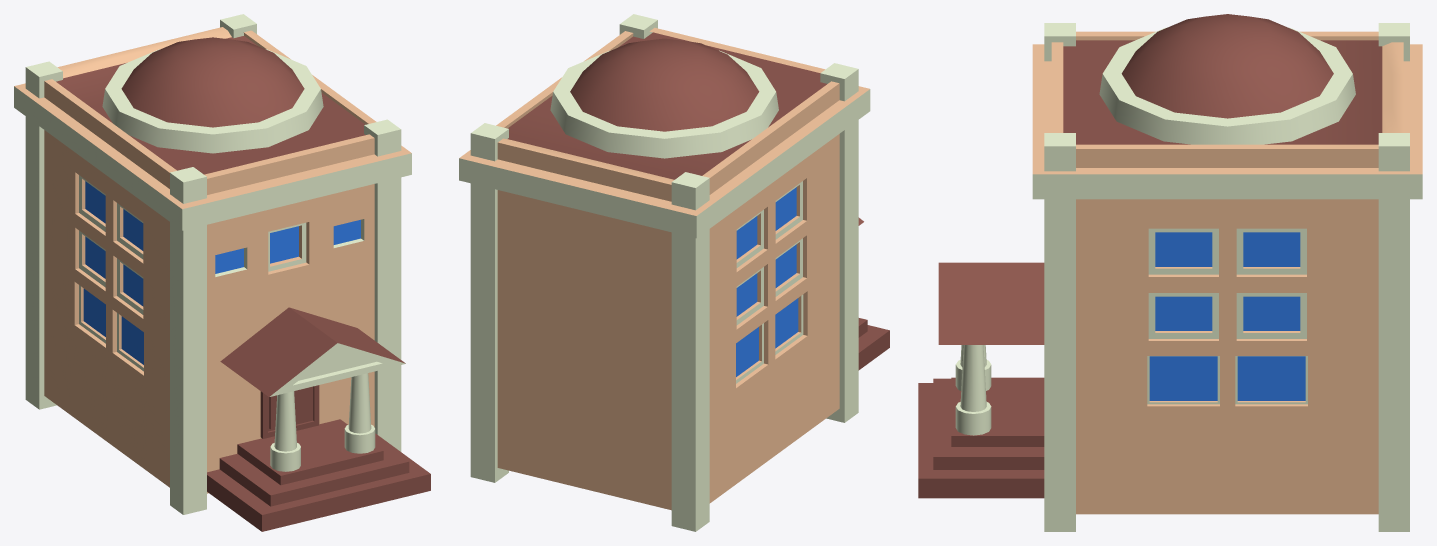
File: HouseSix.fbx
3 views of the same model, side by side, from view 1: azimuth 30°, elevation 25°; view 2: azimuth 150°, elevation 25°; view 3: azimuth 270°, elevation 25° (orthographic). The views are drawn at different scales.
Visible parts, largest first — view 1: Cube.003; view 2: Cube.003; view 3: Cube.003.
Boxes of the visible parts, box(x1,y1,x2,y2) form: Cube.003: box(14, 14, 430, 531); Cube.003: box(459, 14, 889, 531); Cube.003: box(918, 14, 1422, 531).
Bounding box in the file's own units: 140 × 223 × 230.
